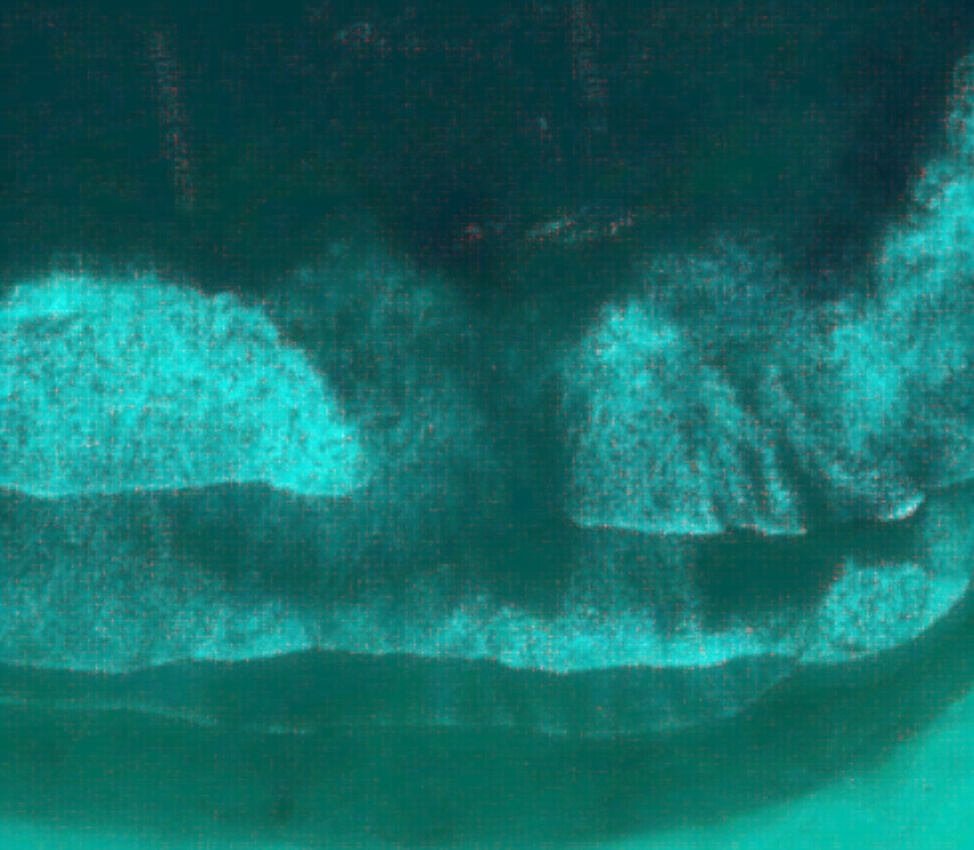rip_current: (221, 100, 681, 636)
